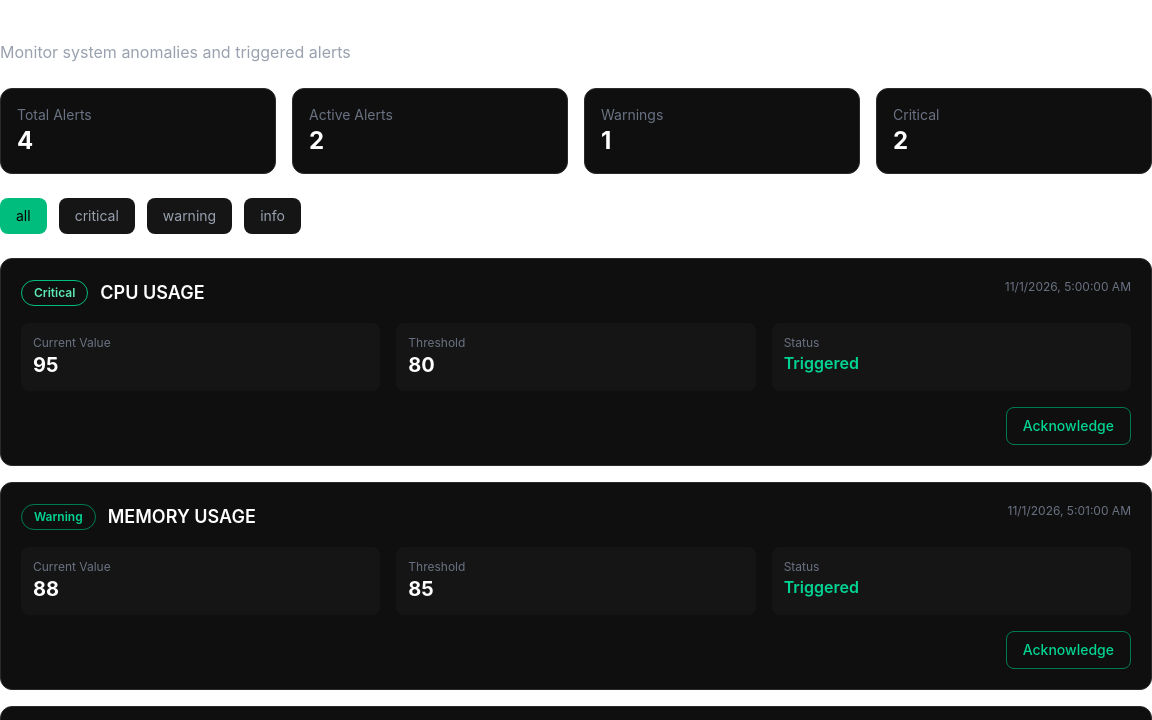
Test: AlertHistory page › filters alerts by critical severity
The width and height of the screenshot is (1152, 720).
Click the button "critical".
click(97, 216)  # box [59,198,135,234]
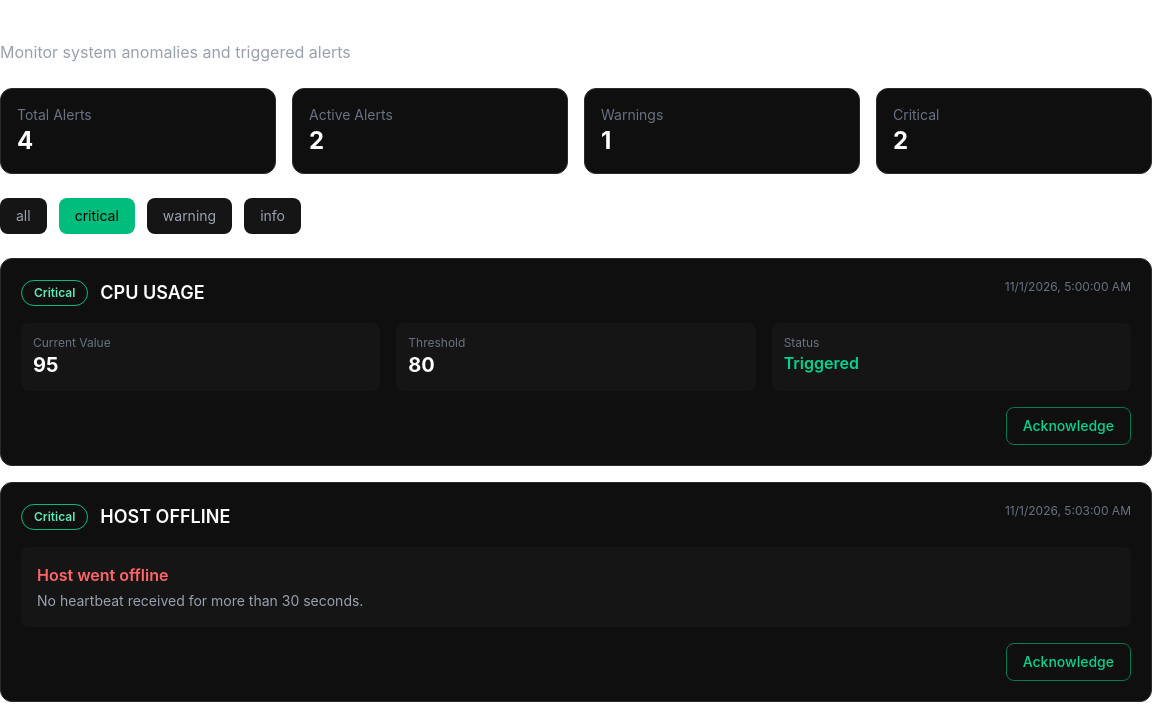
Expected: the heading "CPU USAGE" is shown, [100,279,204,307]
Expected: the heading "HOST OFFLINE" is shown, [100,503,230,531]
Expected: the heading "MEMORY USAGE" is gone
